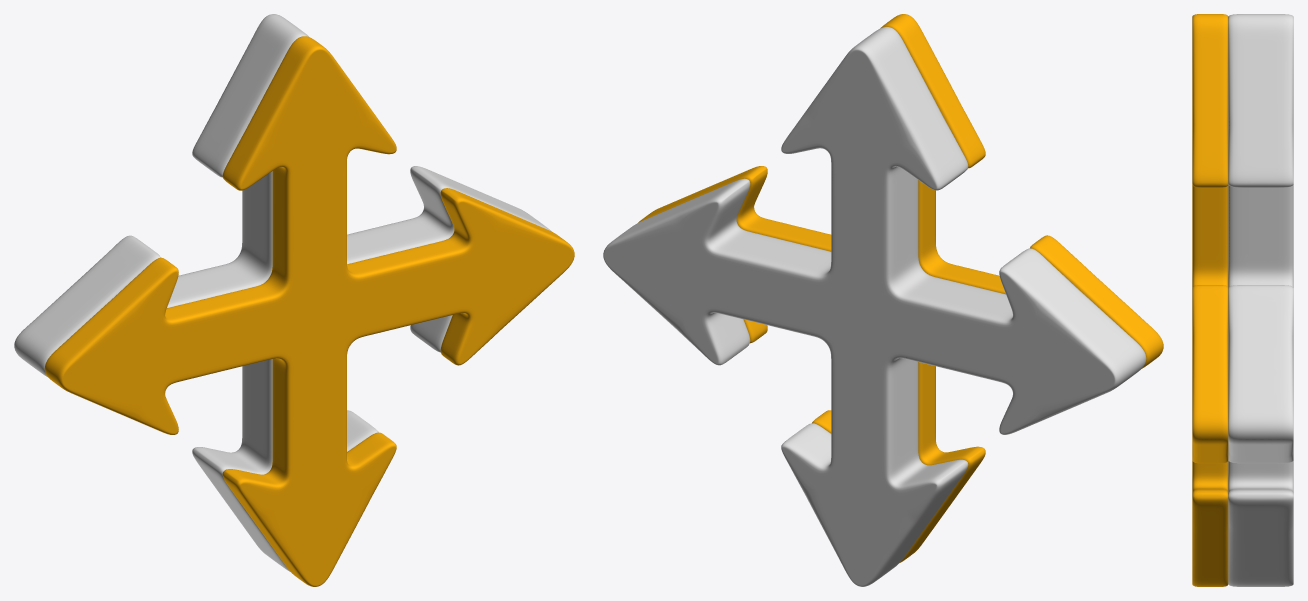
File: move-animated-3d-icon-1356142536261.glb
3 renders of one model, left to right at view 1: azimuth 30°, elevation 25°; view 2: azimuth 150°, elevation 25°; view 3: azimuth 270°, elevation 25°, orthographic. The views are drawn at different scales.
Parts seen in each view (by area): view 1: Move 1, Move 2; view 2: Move 2, Move 1; view 3: Move 2, Move 1.
Part boxes in pixels (<box>): Move 1: <box>44,36,574,586</box>; Move 2: <box>14,14,551,571</box>; Move 2: <box>603,27,1146,586</box>; Move 1: <box>638,14,1163,562</box>; Move 2: <box>1228,14,1293,586</box>; Move 1: <box>1192,14,1228,586</box>.
Size of the model in its own units: 1.29 by 1.29 by 0.2079.
